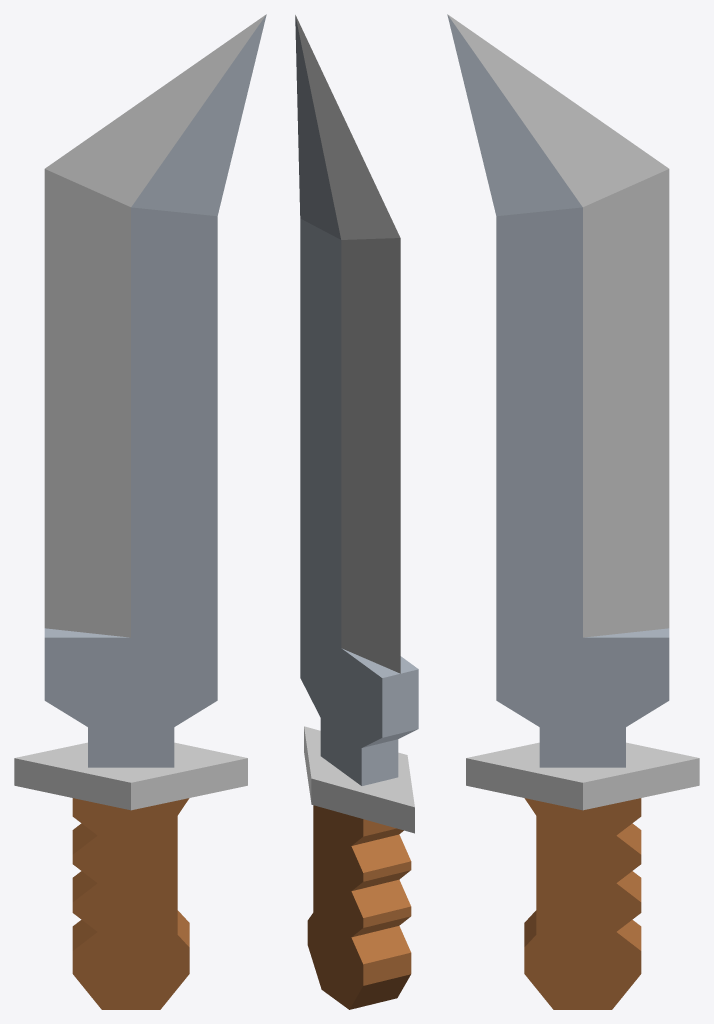
The model's file is knife.glb.
3 views of the same model, side by side, from view 1: azimuth 90°, elevation 25°; view 2: azimuth 210°, elevation 25°; view 3: azimuth 270°, elevation 25° (orthographic). The views are drawn at different scales.
Parts seen in each view (by area): view 1: imagetostl_mesh35, imagetostl_mesh28, imagetostl_mesh3, imagetostl_mesh33, imagetostl_mesh37, imagetostl_mesh40, imagetostl_mesh42, imagetostl_mesh43; view 2: imagetostl_mesh30, imagetostl_mesh34, imagetostl_mesh16, imagetostl_mesh31, imagetostl_mesh39, imagetostl_mesh41, imagetostl_mesh40, imagetostl_mesh25, imagetostl_mesh8, imagetostl_mesh11, imagetostl_mesh14, imagetostl_mesh22 (+9 smaller); view 3: imagetostl_mesh34, imagetostl_mesh30, imagetostl_mesh16, imagetostl_mesh31, imagetostl_mesh39, imagetostl_mesh40, imagetostl_mesh41, imagetostl_mesh45.
Boxes of the visible parts, x1,y1,x2,y2 form: imagetostl_mesh35: (44,207,217,767); imagetostl_mesh28: (44,169,130,637); imagetostl_mesh3: (72,798,189,1009); imagetostl_mesh33: (45,14,266,206); imagetostl_mesh37: (131,14,266,216); imagetostl_mesh40: (14,742,247,782); imagetostl_mesh42: (14,758,130,810); imagetostl_mesh43: (131,758,247,810); imagetostl_mesh30: (341,238,400,673); imagetostl_mesh34: (300,218,382,785); imagetostl_mesh16: (307,805,363,1009); imagetostl_mesh31: (295,15,400,239); imagetostl_mesh39: (295,16,340,239); imagetostl_mesh41: (311,778,414,833); imagetostl_mesh40: (304,726,414,807); imagetostl_mesh25: (382,669,418,737); imagetostl_mesh8: (351,834,410,872); imagetostl_mesh11: (351,879,410,917); imagetostl_mesh14: (351,926,410,964); imagetostl_mesh22: (361,739,398,785); imagetostl_mesh34: (496,207,669,767); imagetostl_mesh30: (583,169,669,637); imagetostl_mesh16: (524,798,641,1009); imagetostl_mesh31: (447,14,668,206); imagetostl_mesh39: (447,14,582,216); imagetostl_mesh40: (466,742,699,782); imagetostl_mesh41: (583,758,699,810); imagetostl_mesh45: (466,758,582,810).
Size of the model in its own units: 1.97 by 18.27 by 4.25.
